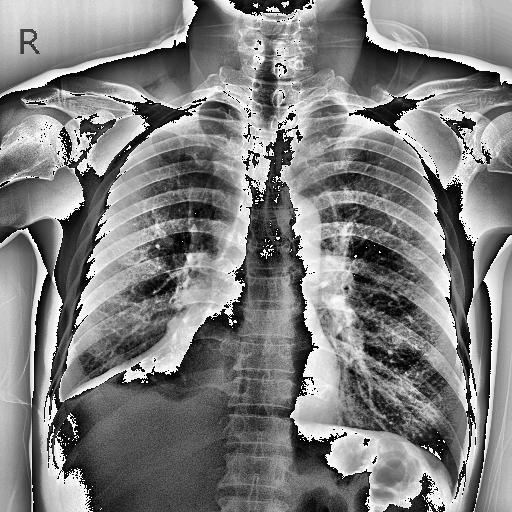1- Atelectasis: (51, 245, 246, 409), (50, 290, 234, 436), (75, 304, 238, 436)
10- Pleural effusion: (49, 386, 74, 418)
11- Pleural thickening: (49, 386, 74, 418)
4- Consolidation: (51, 245, 246, 409)
7- Lung Opacity: (50, 290, 234, 436)
9- Other lesion: (75, 304, 238, 436)
